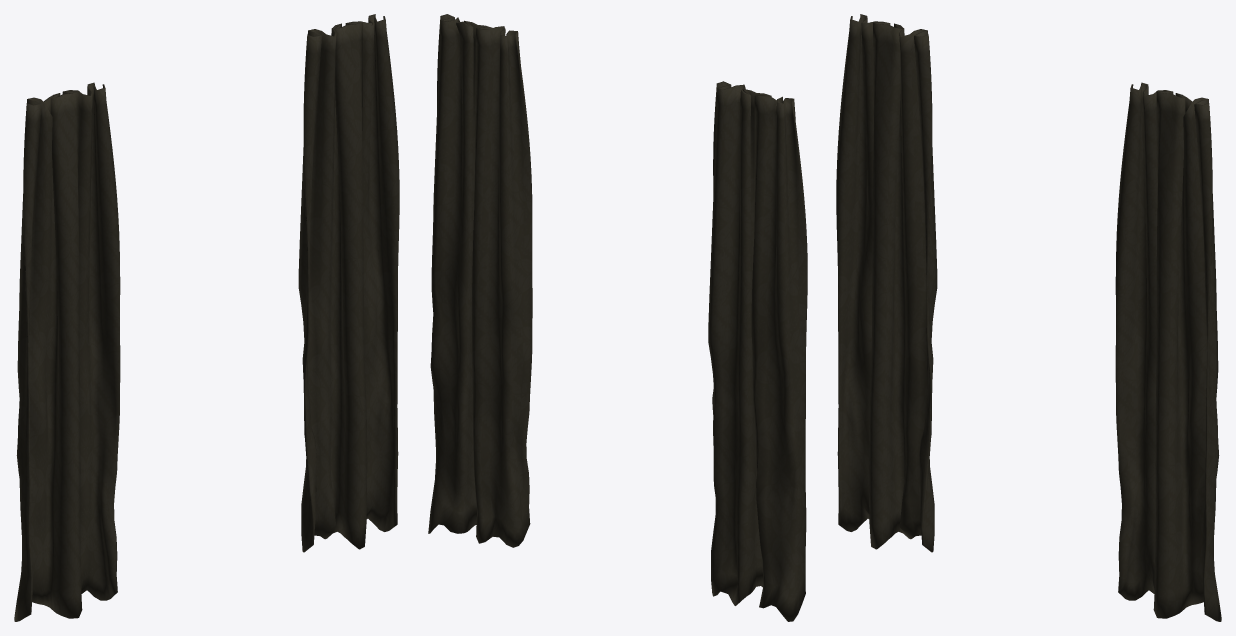
The model's file is CURTAIN LOD 1.fbx.
The picture shows the model from 3 angles, left to right: view 1: azimuth 30°, elevation 25°; view 2: azimuth 150°, elevation 25°; view 3: azimuth 330°, elevation 25°; orthographic projection.
Visible parts, largest first — view 1: CURTAIN LOD 1; view 2: CURTAIN LOD 1; view 3: CURTAIN LOD 1.
Part boxes in pixels (x1,y1,x2,y2): CURTAIN LOD 1: (14,14,399,621); CURTAIN LOD 1: (428,14,807,621); CURTAIN LOD 1: (836,14,1221,621).
Bounding box in the file's own units: 1.83 × 0.2036 × 2.44.
